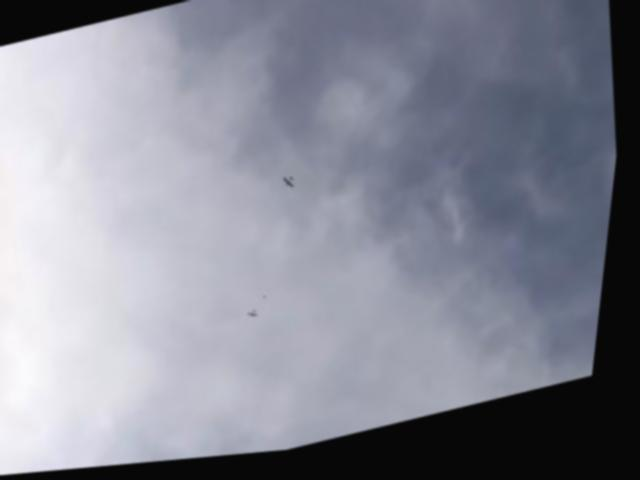uav: (283, 178, 301, 199), (252, 311, 268, 326)
